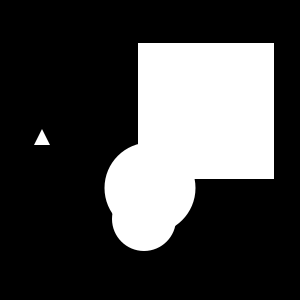circle: (138, 43, 274, 179)
rectangle: (104, 142, 195, 234), (112, 187, 176, 251)
triangle: (34, 129, 50, 145)
